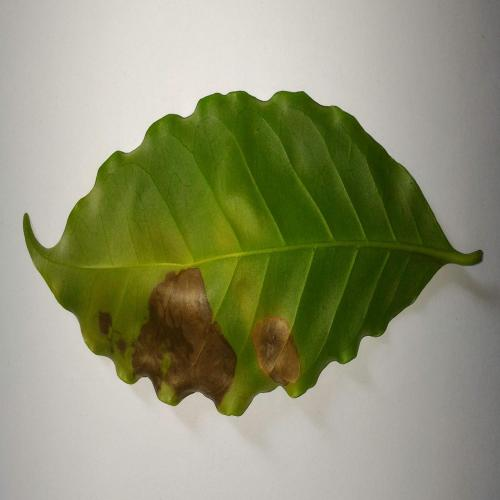leaf: (131, 268, 237, 411)
